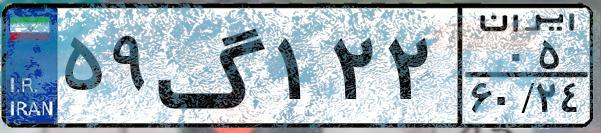0: (508, 27, 537, 80), (495, 70, 520, 125)
1: (270, 28, 330, 110)
2: (385, 28, 445, 110), (330, 28, 385, 110), (535, 70, 560, 125)
4: (560, 70, 590, 125)
5: (57, 26, 110, 100), (537, 27, 568, 80)
6: (470, 70, 495, 125)
9: (110, 28, 156, 98)
گ: (156, 12, 270, 120)
